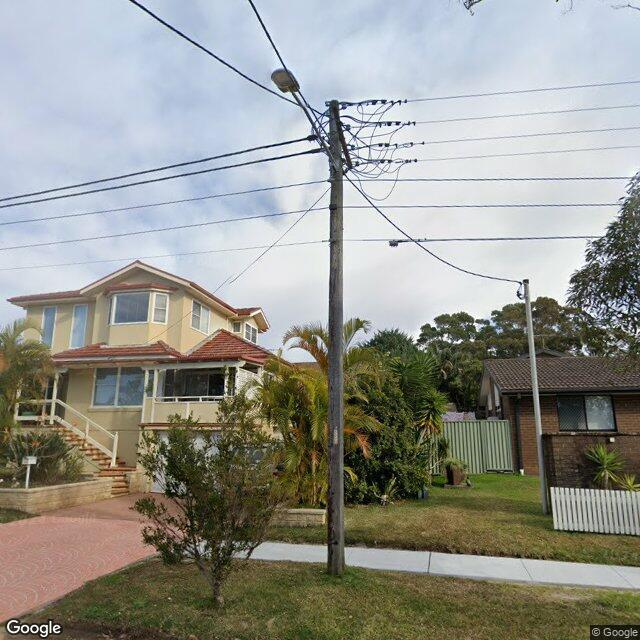crossarm: (332, 98, 354, 174)
steel-pole: (523, 279, 549, 516)
streetlight: (270, 66, 342, 174)
timber-pole: (326, 98, 345, 574)
